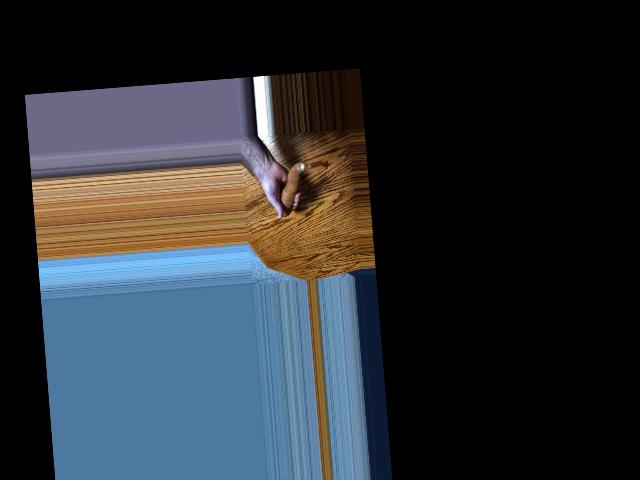sweet_potato: (275, 159, 307, 216)
